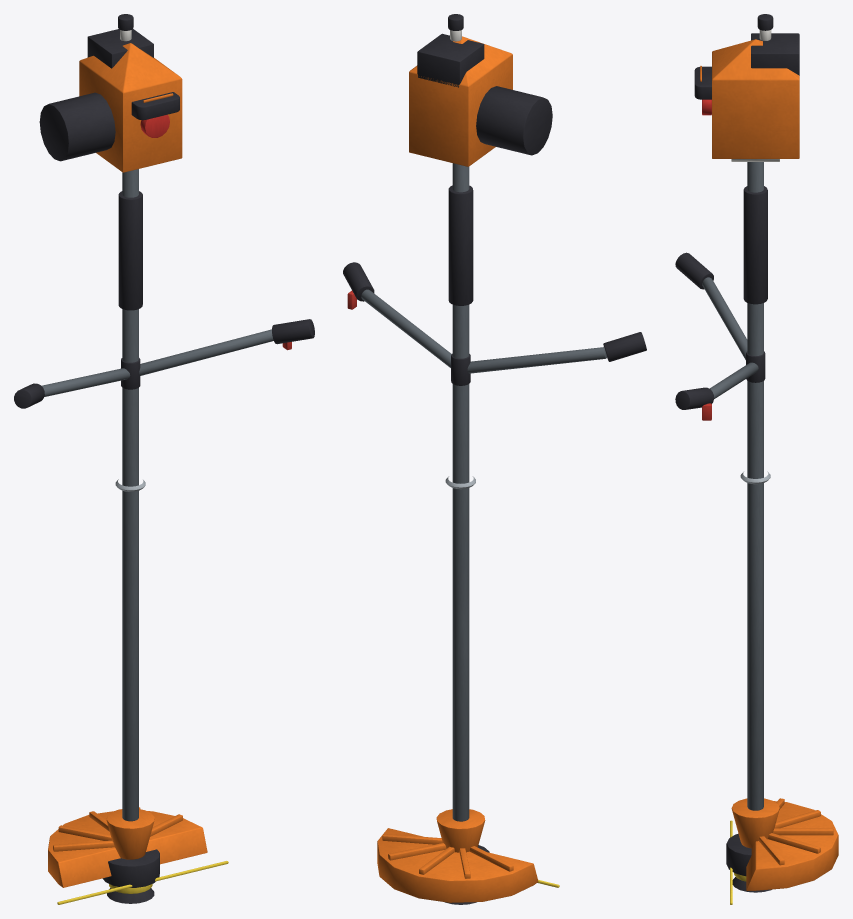
File: desbrozadora.gltf
3 views of the same model, side by side, from view 1: azimuth 30°, elevation 25°; view 2: azimuth 150°, elevation 25°; view 3: azimuth 270°, elevation 25° (orthographic).
Visible parts, largest first — view 1: desbrozadora; view 2: desbrozadora; view 3: desbrozadora.
Boxes of the visible parts, x1,y1,x2,y2 form: desbrozadora: (14, 14, 314, 904); desbrozadora: (343, 14, 646, 904); desbrozadora: (675, 14, 838, 904).
Size of the model in its own units: 0.705 by 1.96 by 0.3348.
Materials: 8 (8 with a texture image).
